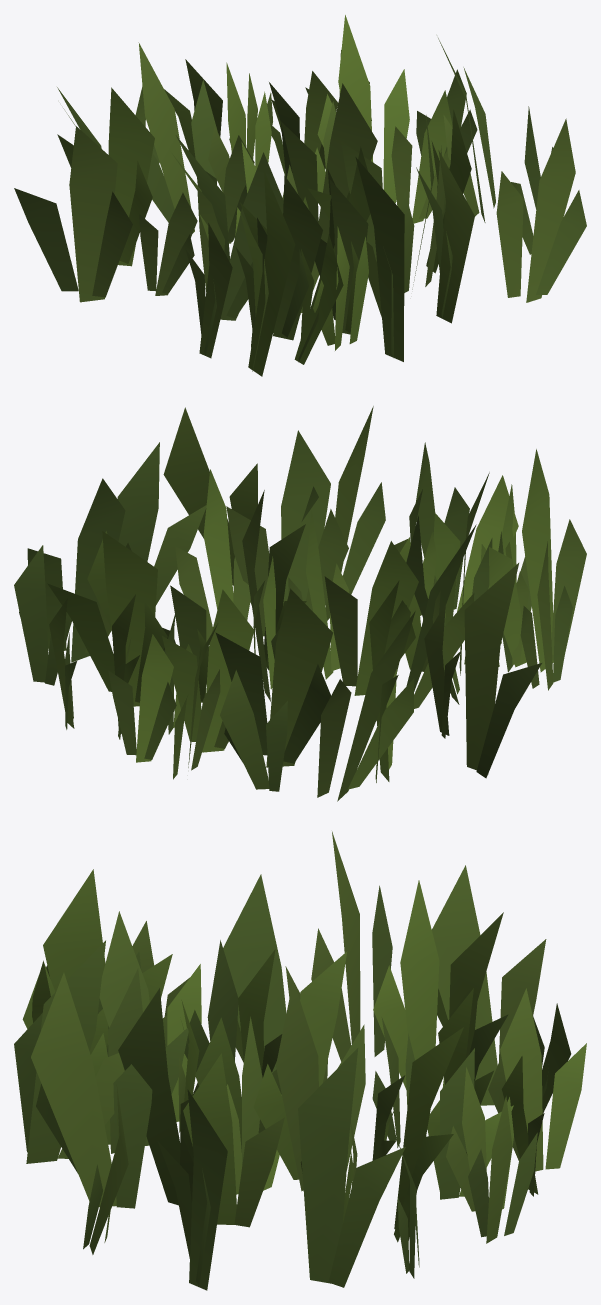
File: grass1.glb
3 views of the same model, one above another, from view 1: azimuth 30°, elevation 25°; view 2: azimuth 150°, elevation 25°; view 3: azimuth 270°, elevation 25° (orthographic). The views are drawn at different scales.
Visible parts, largest first — view 1: mff_grass_patch_1; view 2: mff_grass_patch_1; view 3: mff_grass_patch_1.
Part boxes in pixels (x1=…): mff_grass_patch_1: x1=14, y1=15, x2=586, y2=376; mff_grass_patch_1: x1=14, y1=406, x2=586, y2=801; mff_grass_patch_1: x1=14, y1=831, x2=586, y2=1290.
Size of the model in its own units: 2.05 by 0.8131 by 1.81.
1 material, 1 textured.
